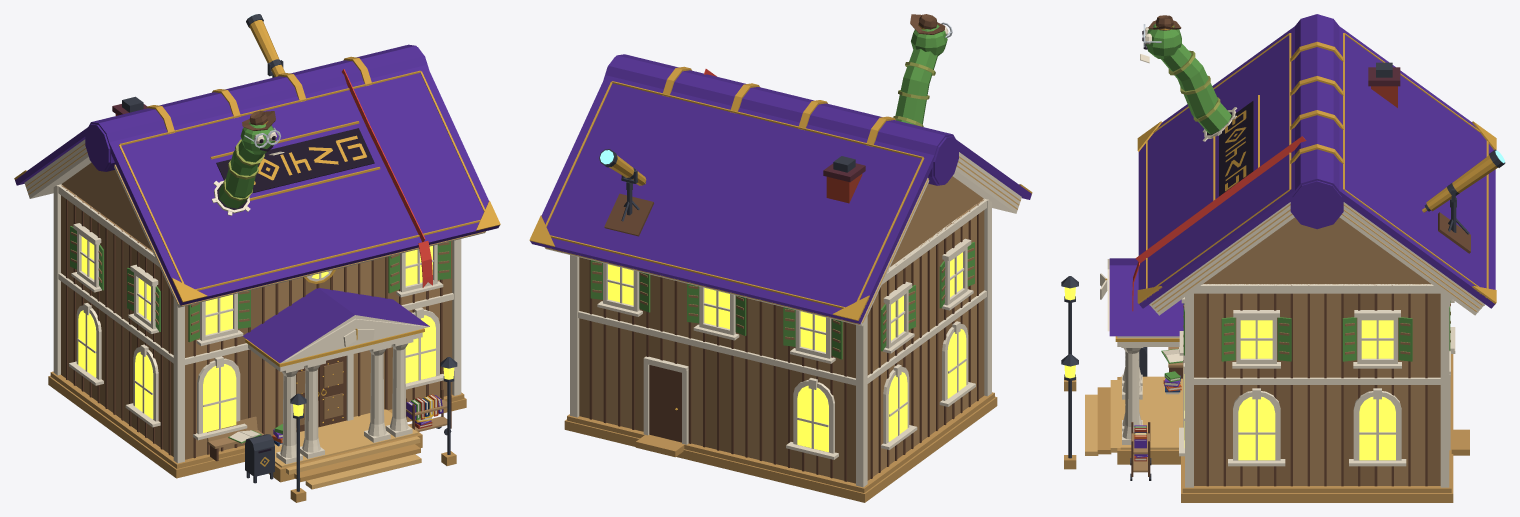
File: Bldg_Library.fbx
3 renders of one model, left to right at view 1: azimuth 30°, elevation 25°; view 2: azimuth 150°, elevation 25°; view 3: azimuth 270°, elevation 25°, orthographic. The views are drawn at different scales.
Parts seen in each view (by area): view 1: Bldg_Library_Body, Bldg_Library_Bookworm, Bldg_Library_Door_R, Bldg_Library_Telescope; view 2: Bldg_Library_Body, Bldg_Library_Bookworm, Bldg_Library_Telescope; view 3: Bldg_Library_Body, Bldg_Library_Bookworm, Bldg_Library_Telescope.
Part boxes in pixels (bbox=[...]): Bldg_Library_Body: bbox=[14, 44, 500, 502]; Bldg_Library_Bookworm: bbox=[219, 110, 284, 208]; Bldg_Library_Door_R: bbox=[319, 356, 346, 426]; Bldg_Library_Telescope: bbox=[246, 14, 285, 77]; Bldg_Library_Body: bbox=[529, 54, 1032, 502]; Bldg_Library_Bookworm: bbox=[893, 14, 952, 126]; Bldg_Library_Telescope: bbox=[599, 149, 646, 190]; Bldg_Library_Body: bbox=[1061, 14, 1496, 502]; Bldg_Library_Bookworm: bbox=[1140, 15, 1231, 134]; Bldg_Library_Telescope: bbox=[1422, 149, 1505, 212].
Size of the model in its own units: 11.72 by 12.32 by 13.21.
